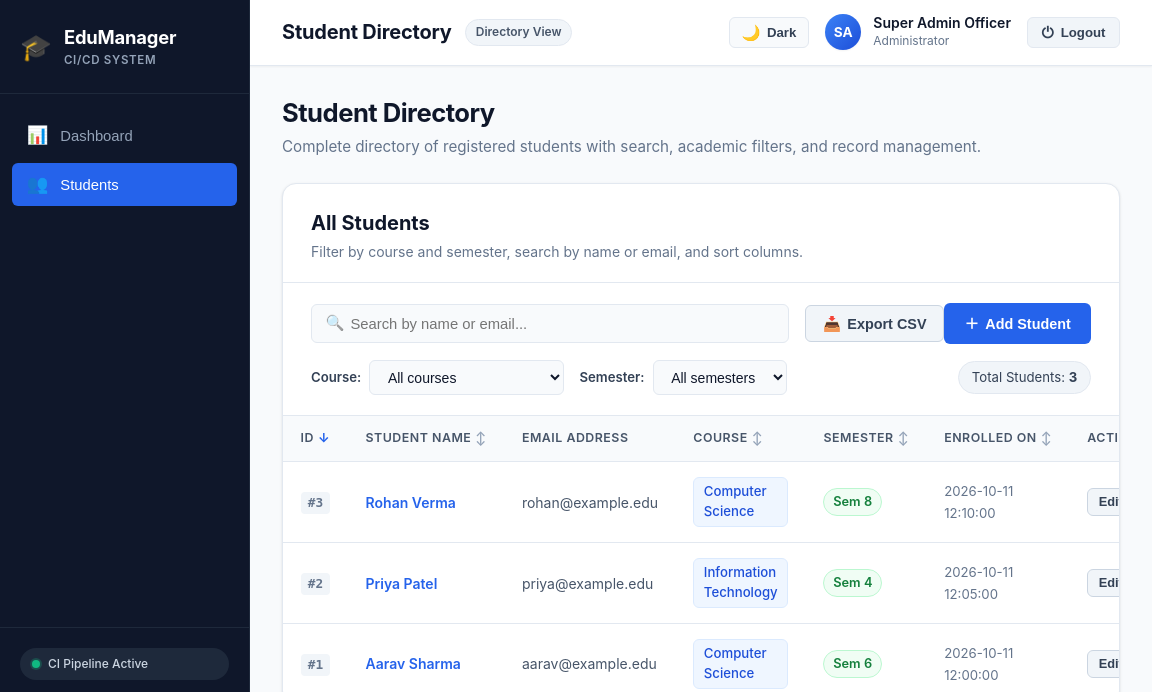
Test: Student Management System - Frontend Tests › navigates back to student directory from student detail page
// Navigate to detail page
Click the button titled "View details for Aarav Sharma". click: (413, 664)
box: x1=366 y1=656 x2=461 y2=672
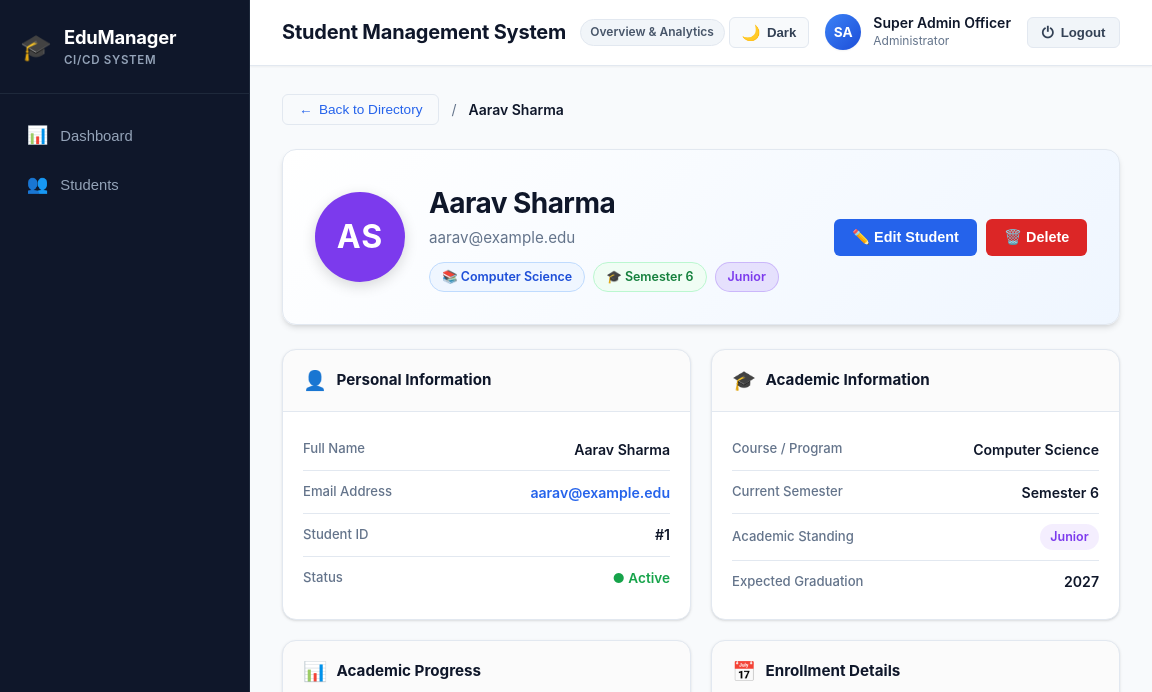
Result: the heading "Personal Information" is shown at x1=336 y1=370 x2=491 y2=392
// Click "Back to Directory"
Click the button with aria-label "Go back to student directory". click: (361, 110)
box: x1=282 y1=94 x2=440 y2=125
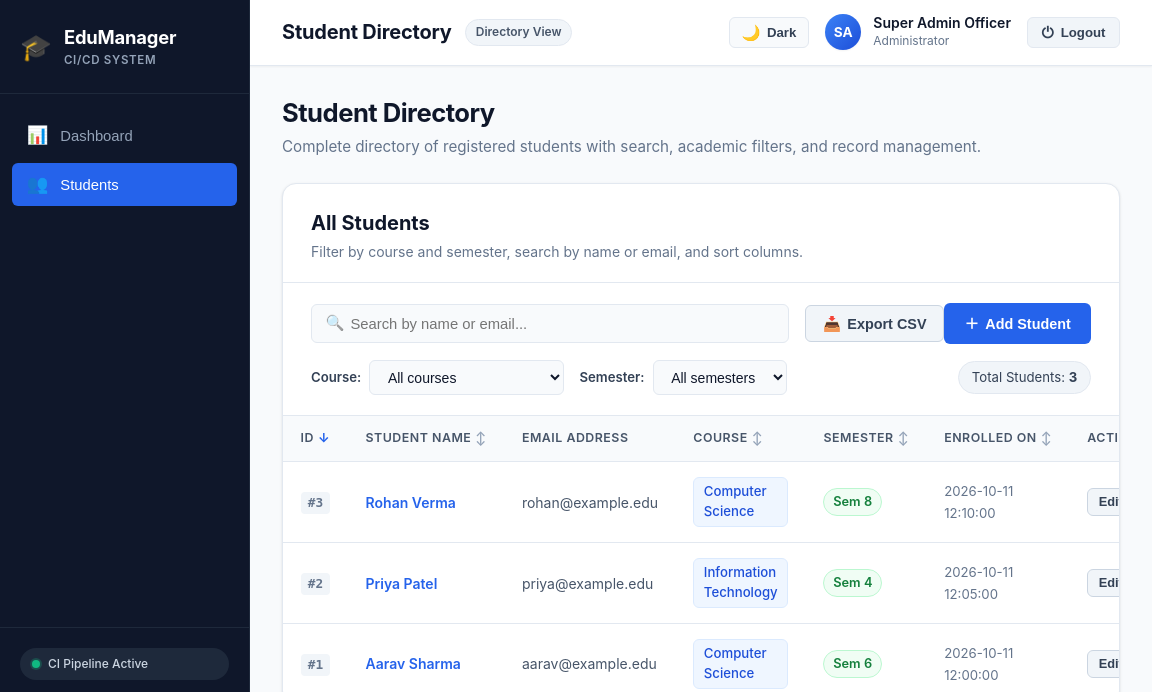
Result: the heading "Student Directory" next to "Directory View" is shown at x1=282 y1=17 x2=452 y2=47
Result: the heading "All Students" is shown at x1=311 y1=211 x2=430 y2=235
